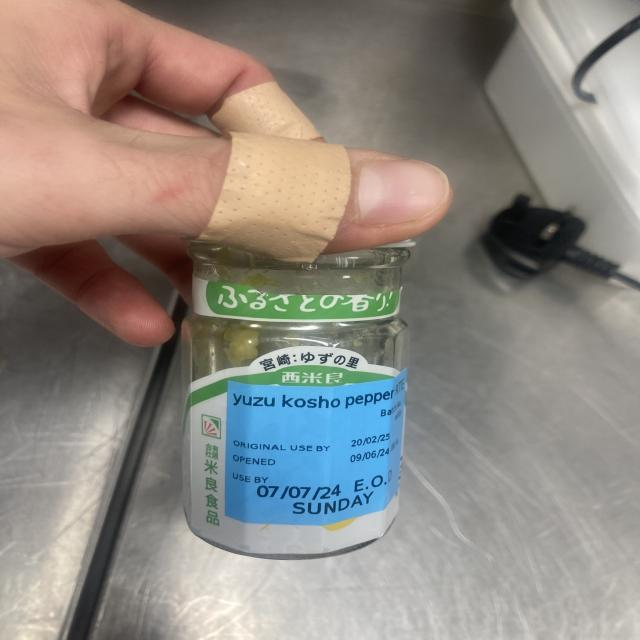product-labels: (229, 379, 420, 522)
